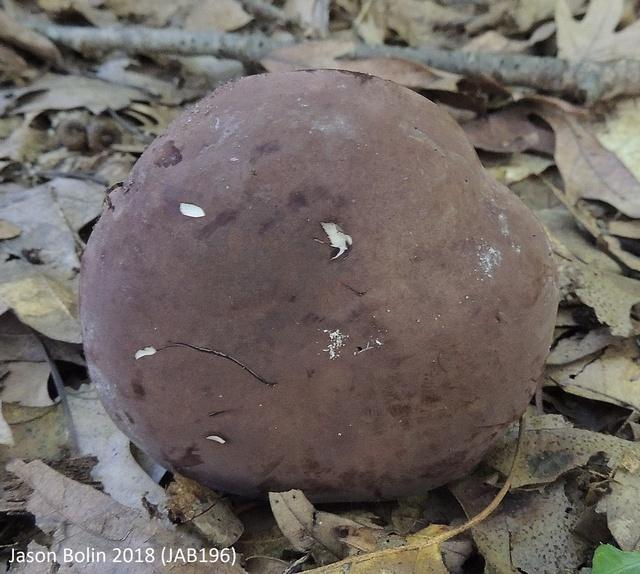Non-edible Mushroom: (75, 66, 561, 504)
